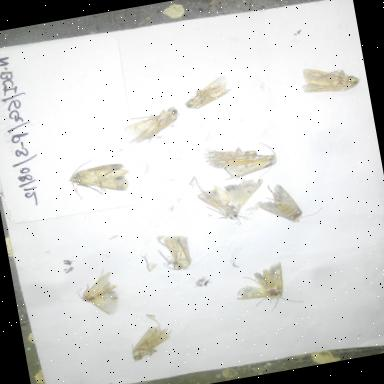abw: (184, 161, 274, 234), (222, 254, 308, 322), (54, 148, 144, 207), (253, 176, 331, 236), (69, 262, 128, 324), (185, 136, 264, 182), (293, 54, 367, 103), (120, 317, 186, 366), (119, 101, 185, 149), (144, 226, 201, 281), (180, 68, 242, 115)
